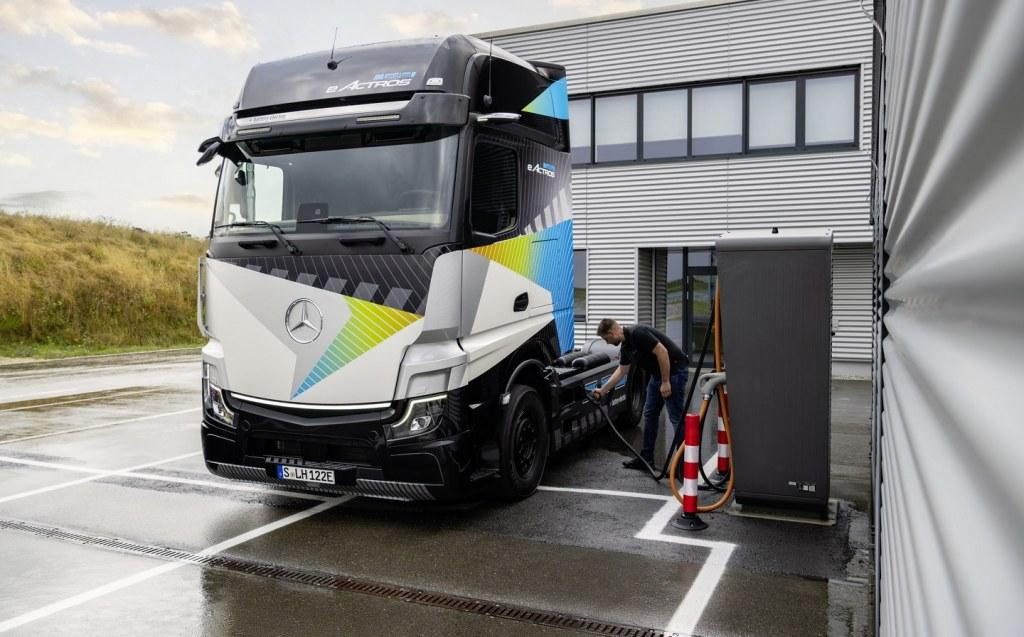truck: (195, 34, 640, 506)
